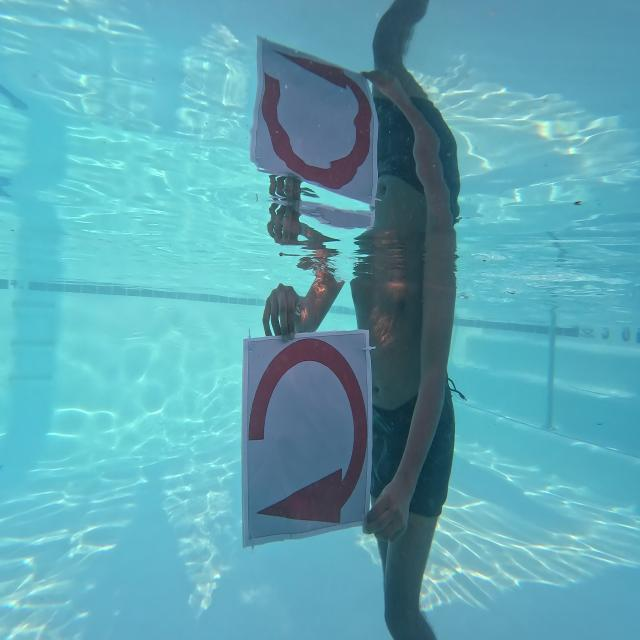red_side: (241, 320, 373, 542)
